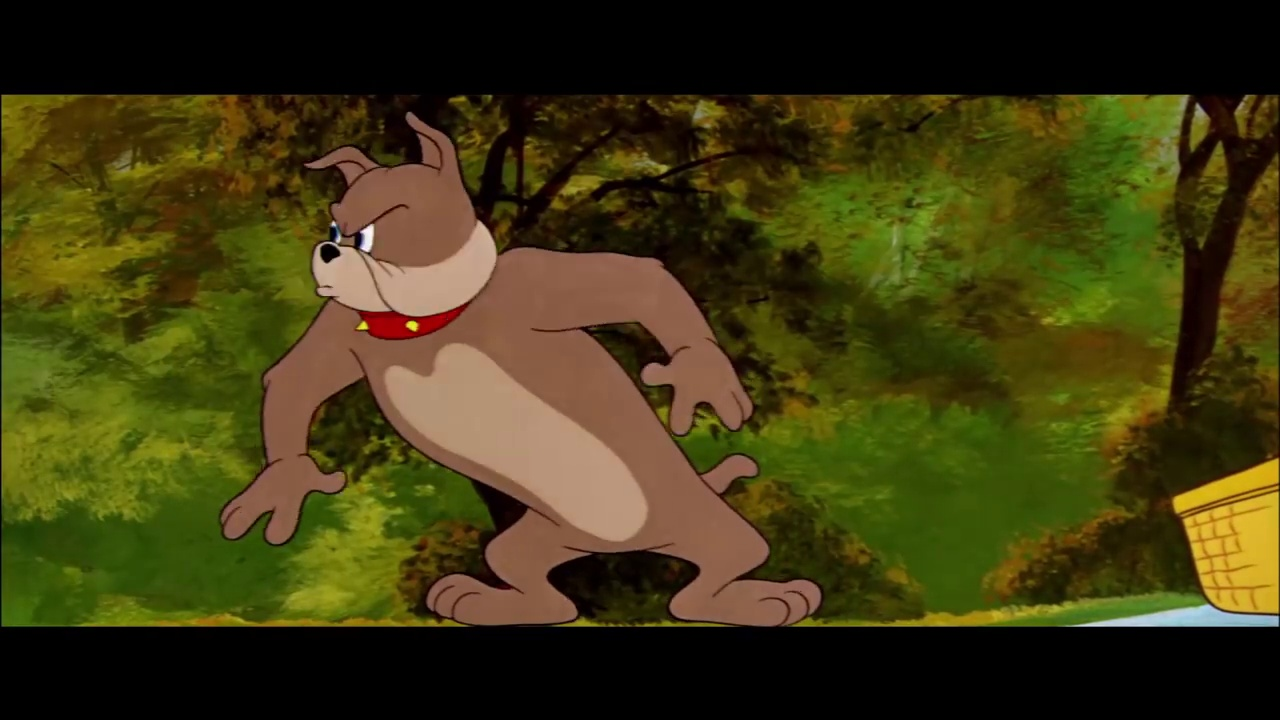spike: (301, 107, 502, 348)
